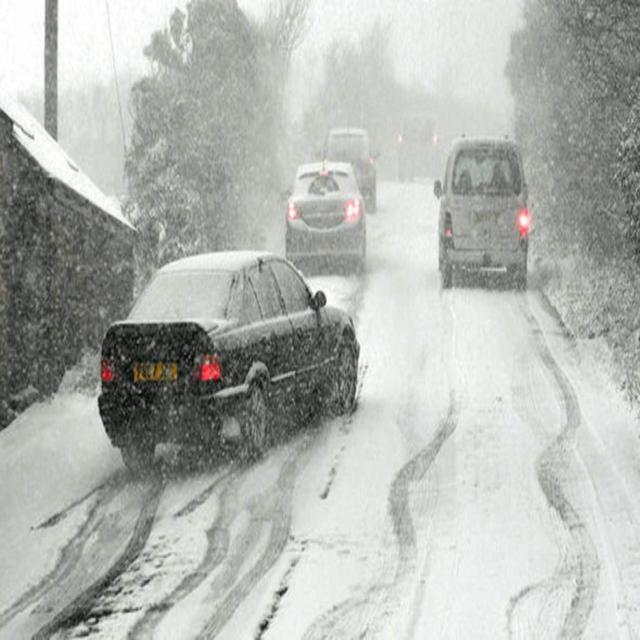car: (100, 247, 356, 470), (437, 138, 529, 298), (285, 164, 367, 274), (325, 126, 379, 212), (396, 112, 441, 181)
